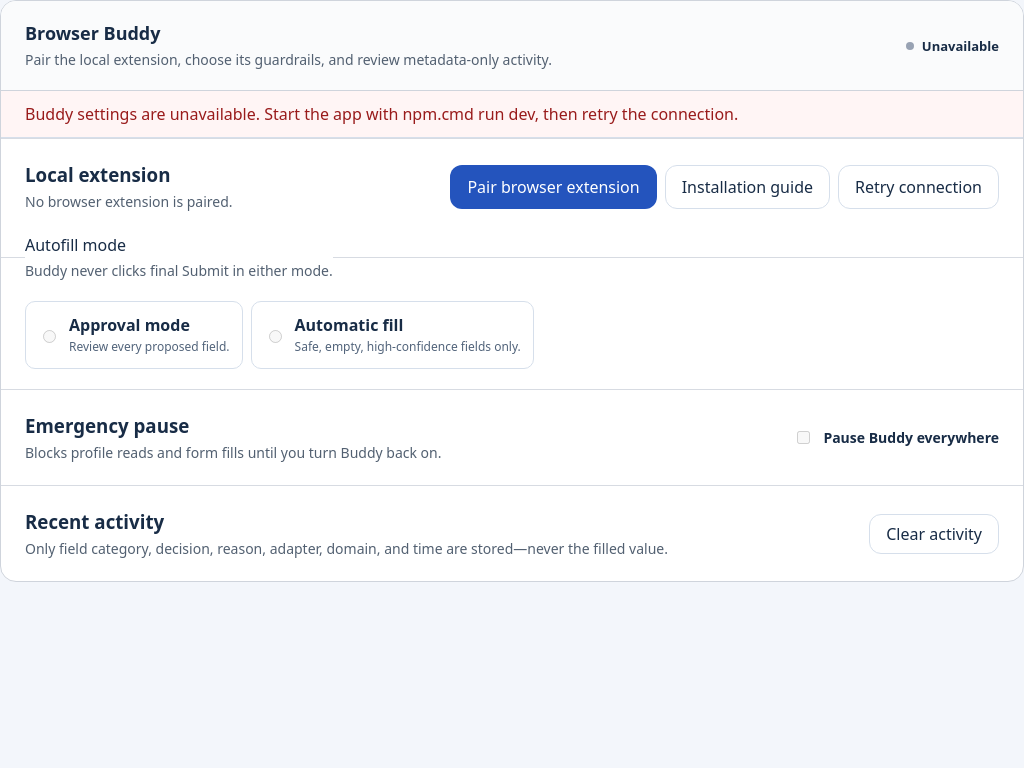
it: BuddySettings › retries an unavailable companion before enabling pairing
The image size is (1024, 768).
Expected: the text "Buddy settings are unavailable" is shown, [25,103,738,125]
Expected: the button "Pair browser extension" is disabled, [450,164,657,208]
Click the button "Retry connection". click: (918, 186)
box: [838,164,999,208]
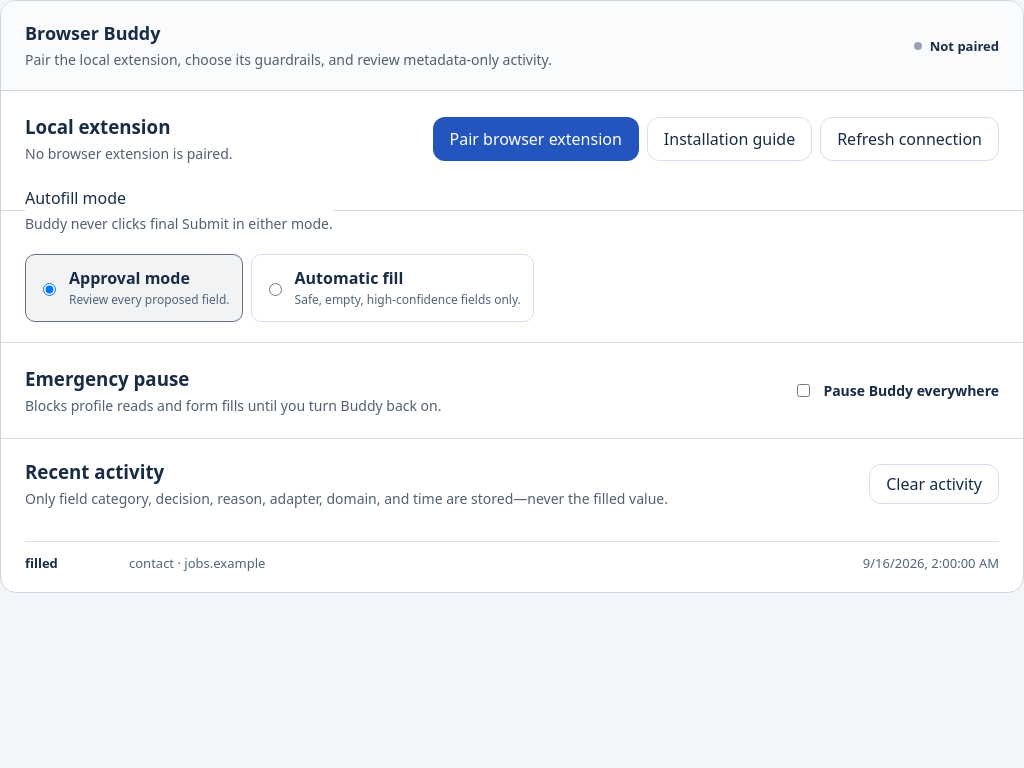
Expected: the button "Installation guide" is enabled, [647,117,812,161]
Expected: the button "Pair browser extension" is enabled, [433,117,639,161]
